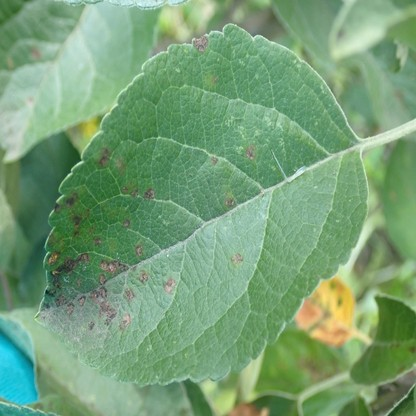powdery_mildew: (41, 305, 106, 354)
scab: (46, 253, 90, 306), (91, 276, 117, 325), (55, 190, 78, 214), (221, 180, 237, 209), (130, 265, 150, 284), (95, 146, 110, 167), (100, 261, 126, 273), (68, 213, 80, 238), (47, 232, 63, 250), (231, 252, 247, 269), (193, 35, 208, 53), (205, 70, 217, 90), (107, 237, 119, 254), (246, 143, 257, 161), (46, 251, 59, 265), (114, 157, 124, 174), (119, 314, 130, 329), (143, 188, 155, 201), (164, 278, 175, 292), (124, 289, 134, 303), (135, 245, 143, 262), (210, 154, 219, 168), (81, 209, 90, 222), (121, 180, 129, 194), (121, 218, 129, 229), (94, 237, 102, 247), (86, 227, 94, 236), (131, 189, 139, 197)
